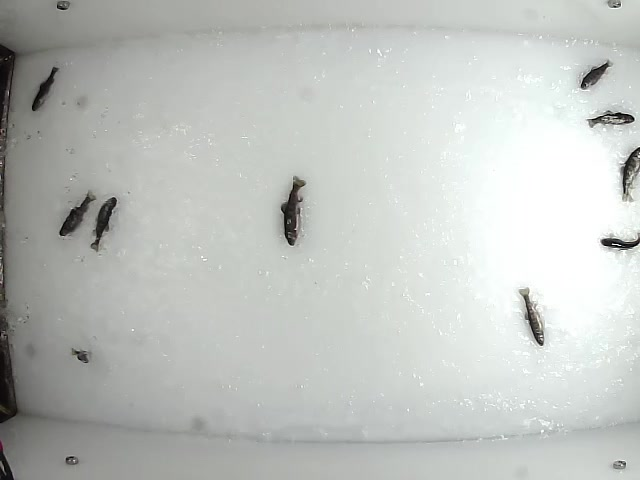fish: (56, 188, 99, 240), (278, 175, 306, 249), (87, 193, 118, 253), (518, 285, 546, 349), (612, 143, 640, 206), (28, 63, 61, 112), (578, 56, 613, 91), (584, 107, 637, 129), (598, 227, 640, 250), (70, 344, 95, 364)
